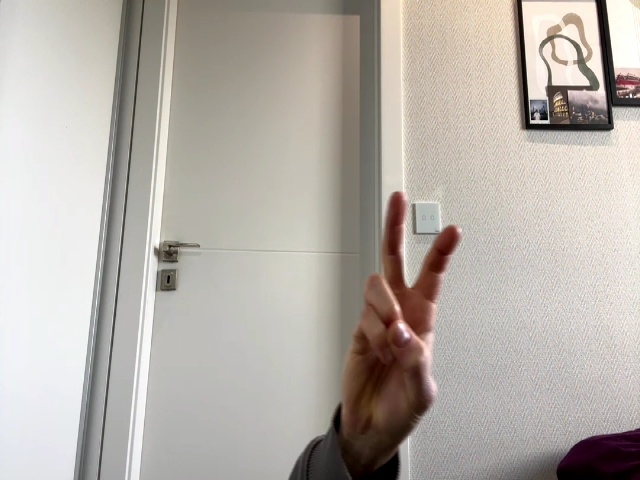H: (342, 192, 461, 436)
